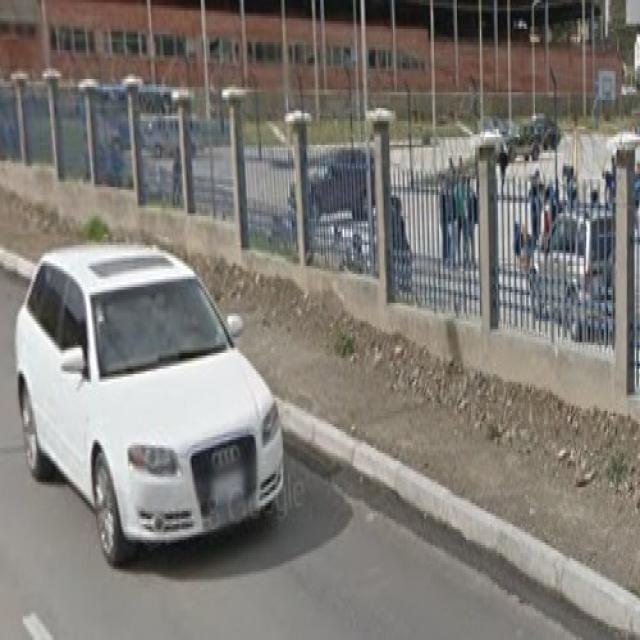car: (20, 254, 289, 562)
